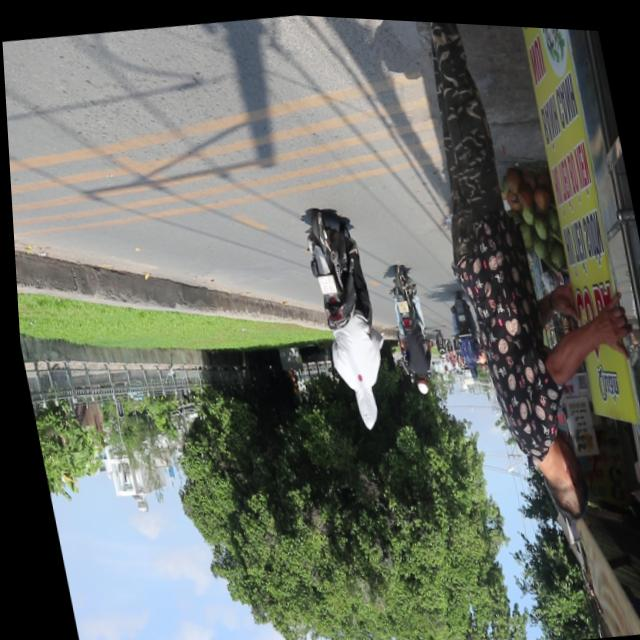helmet: (349, 388, 376, 429)
licenseplate: (295, 202, 395, 432)
nohelmet: (315, 271, 334, 292)
